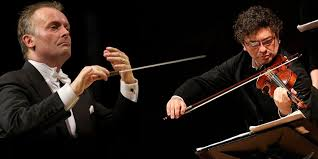violin: (254, 54, 306, 109)
